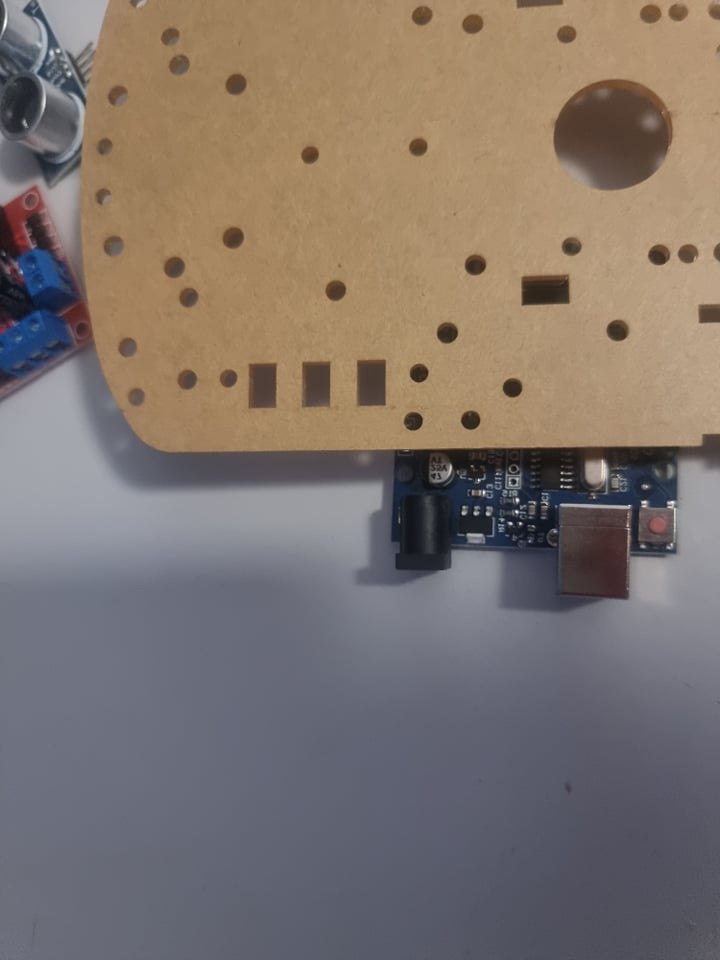UNO R3: (371, 440, 685, 609)
